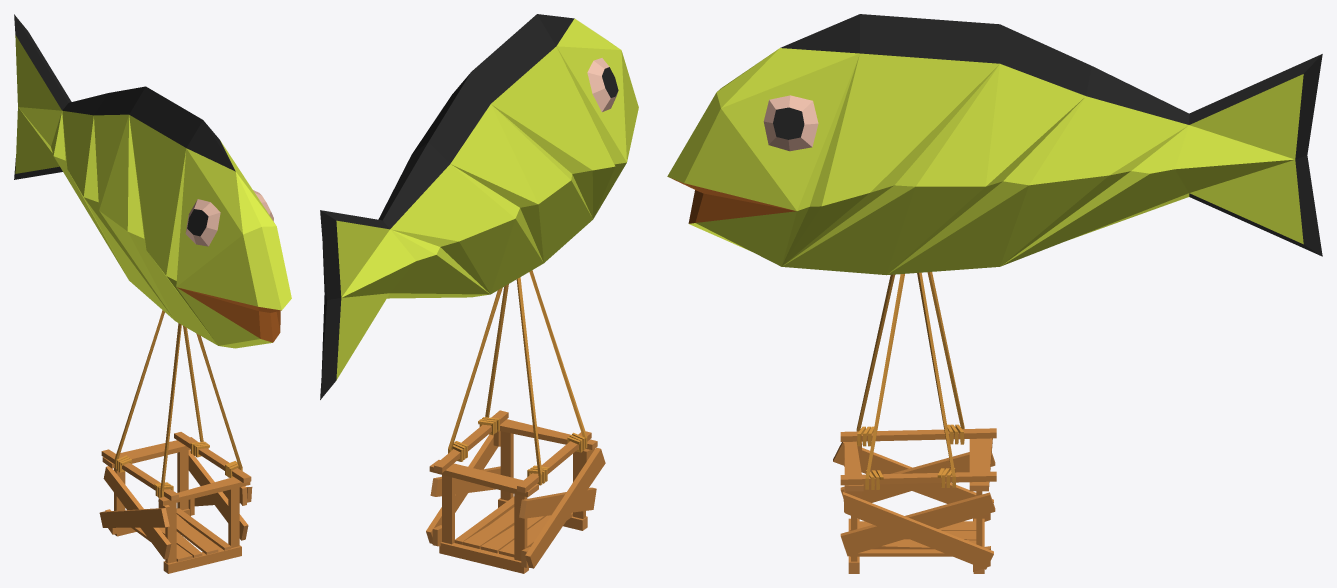
The model's file is FishBalloon.fbx.
3 views of the same model, side by side, from view 1: azimuth 30°, elevation 25°; view 2: azimuth 150°, elevation 25°; view 3: azimuth 270°, elevation 25° (orthographic). The views are drawn at different scales.
Parts seen in each view (by area): view 1: FishBalloon; view 2: FishBalloon; view 3: FishBalloon.
Part boxes in pixels (box(x1,y1,x2,y2)): FishBalloon: box(14, 14, 291, 573); FishBalloon: box(320, 14, 638, 573); FishBalloon: box(667, 14, 1322, 573).
Size of the model in its own units: 60.74 by 243 by 268.
